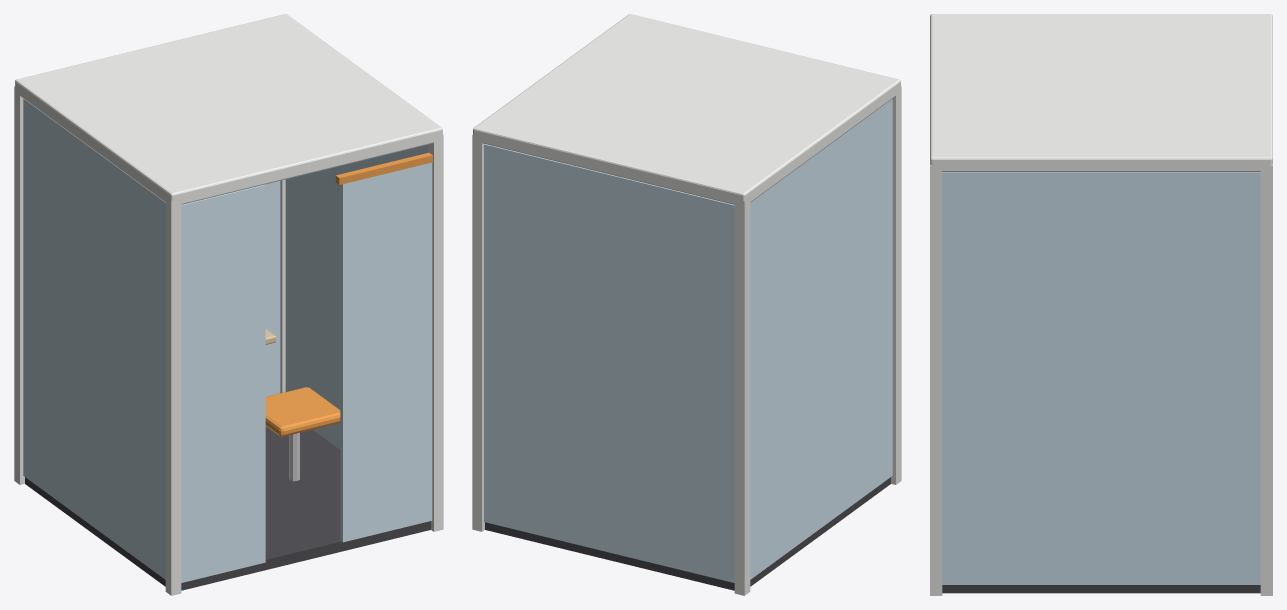
The model's file is meeting_pod.glb.
3 renders of one model, left to right at view 1: azimuth 30°, elevation 25°; view 2: azimuth 150°, elevation 25°; view 3: azimuth 270°, elevation 25°, orthographic. The views are drawn at different scales.
Visible parts, largest first — view 1: meeting_pod; view 2: meeting_pod; view 3: meeting_pod.
Part boxes in pixels (left/top/right/bottom): meeting_pod: left=14, top=14, right=443, bottom=595; meeting_pod: left=472, top=14, right=901, bottom=595; meeting_pod: left=930, top=14, right=1272, bottom=595.
Bounding box in the file's own units: 1.66 × 2.34 × 1.66.
